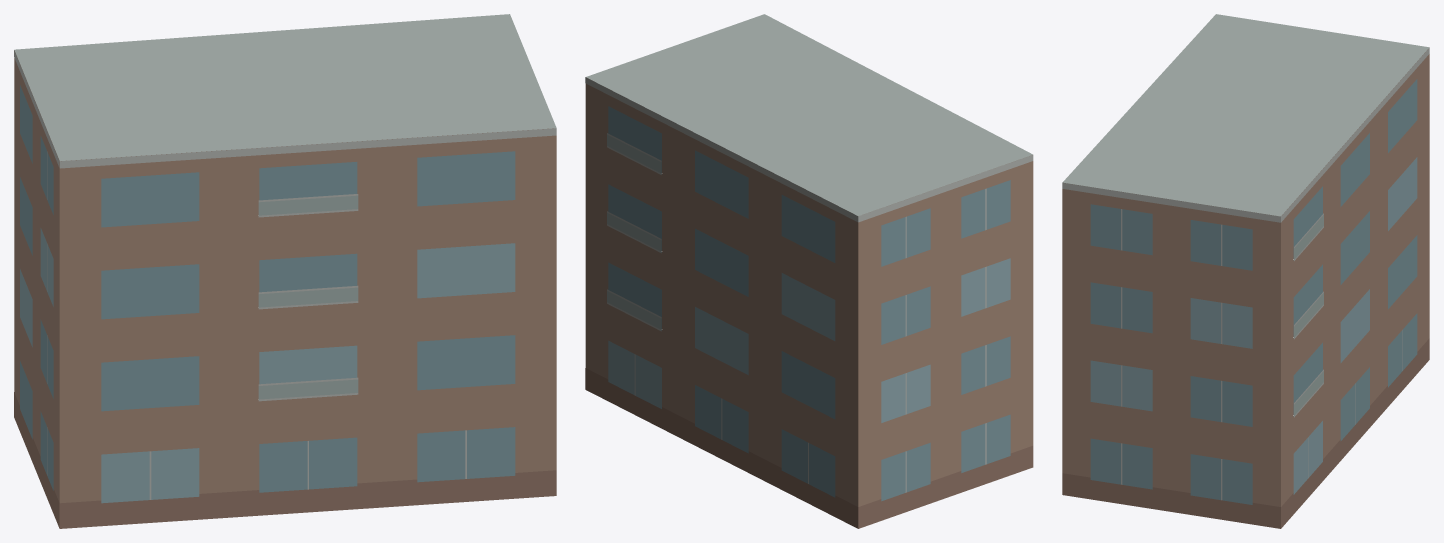
The model's file is survey-upis-32527801.glb.
3 views of the same model, side by side, from view 1: azimuth 30°, elevation 25°; view 2: azimuth 150°, elevation 25°; view 3: azimuth 270°, elevation 25° (orthographic). The views are drawn at different scales.
Visible parts, largest first — view 1: survey-upis-32527801.tmp; view 2: survey-upis-32527801.tmp; view 3: survey-upis-32527801.tmp.
Part boxes in pixels (left/top/right/bottom): survey-upis-32527801.tmp: left=14, top=14, right=556, bottom=528; survey-upis-32527801.tmp: left=585, top=14, right=1033, bottom=528; survey-upis-32527801.tmp: left=1062, top=14, right=1429, bottom=528.
Size of the model in its own units: 16.97 by 12.2 by 13.01.
